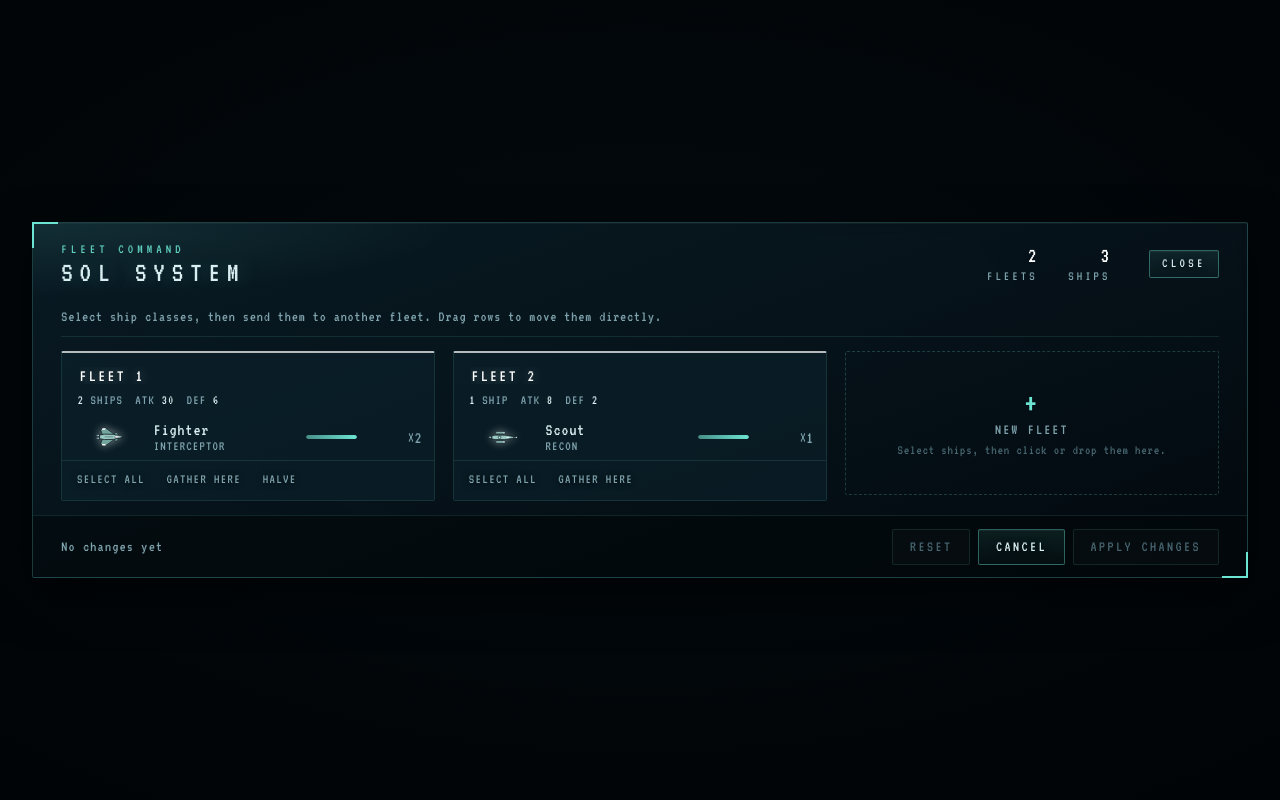
it: StarMapFleetManagerComponent › merges by transferring a whole fleet and drops the emptied column
Click the 2nd button "Select all": click(503, 480) [460, 466, 546, 494]
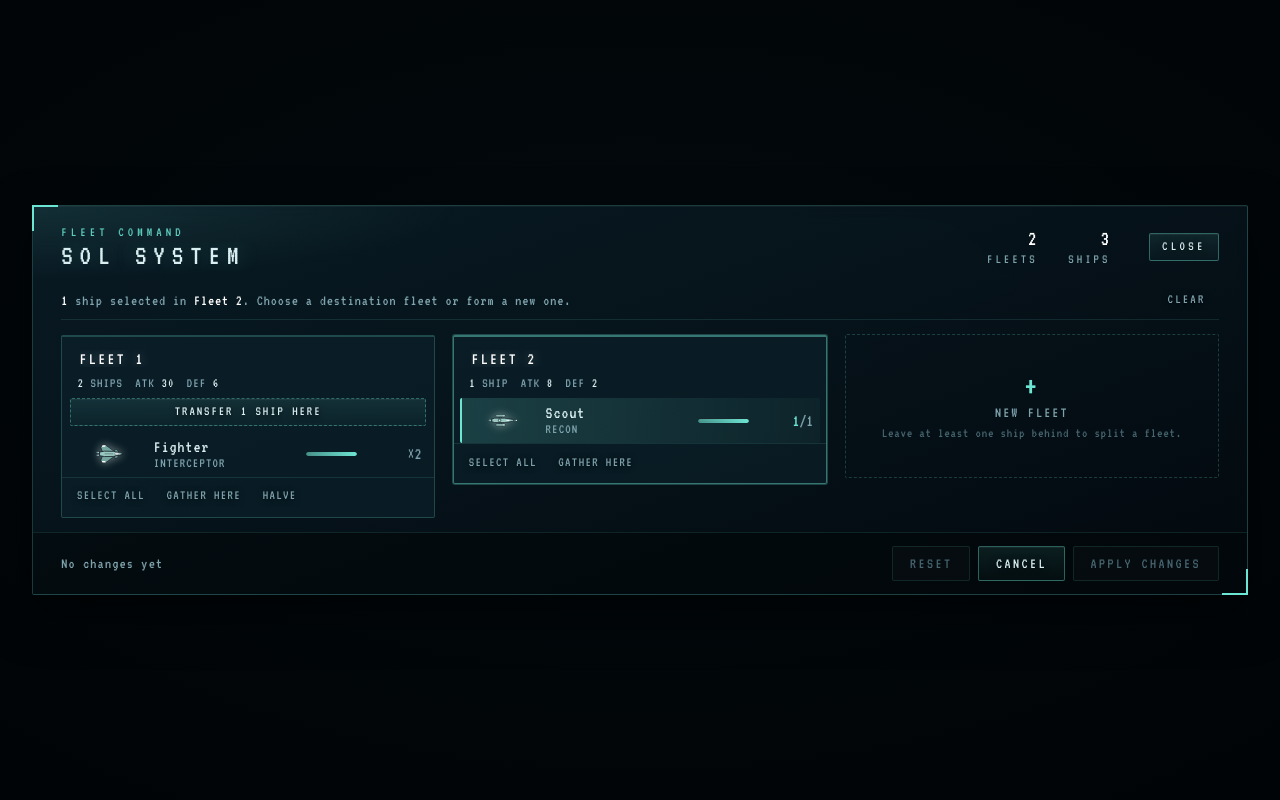
Click the button with class "fm-fleet__drop": click(248, 412) [70, 398, 426, 426]
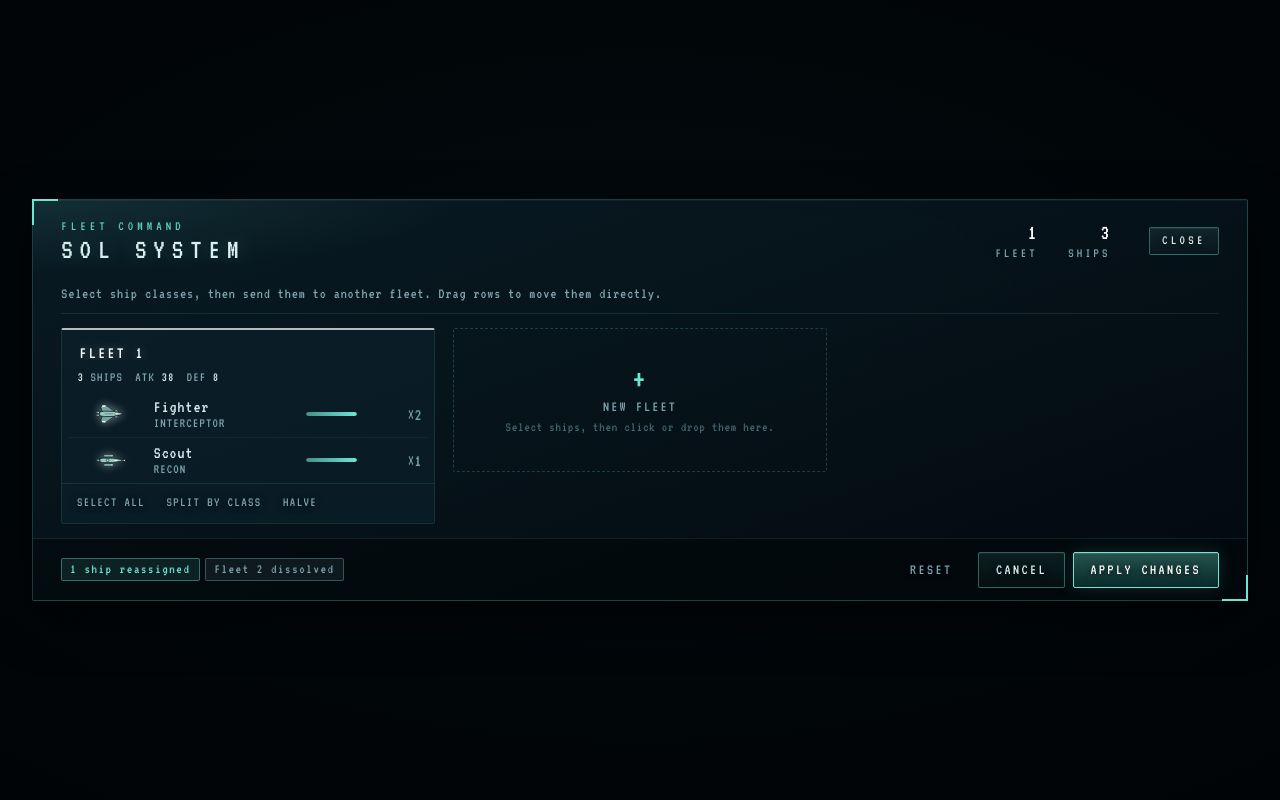
expect the element with class "fm__summary" shows "Fleet 2 dissolved": met, box [214, 562, 335, 576]
